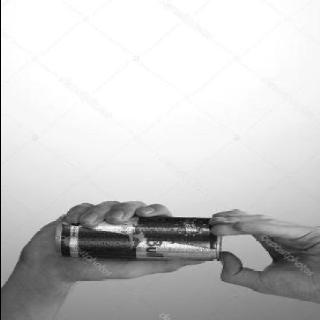alumunium_can: (51, 216, 222, 262)
